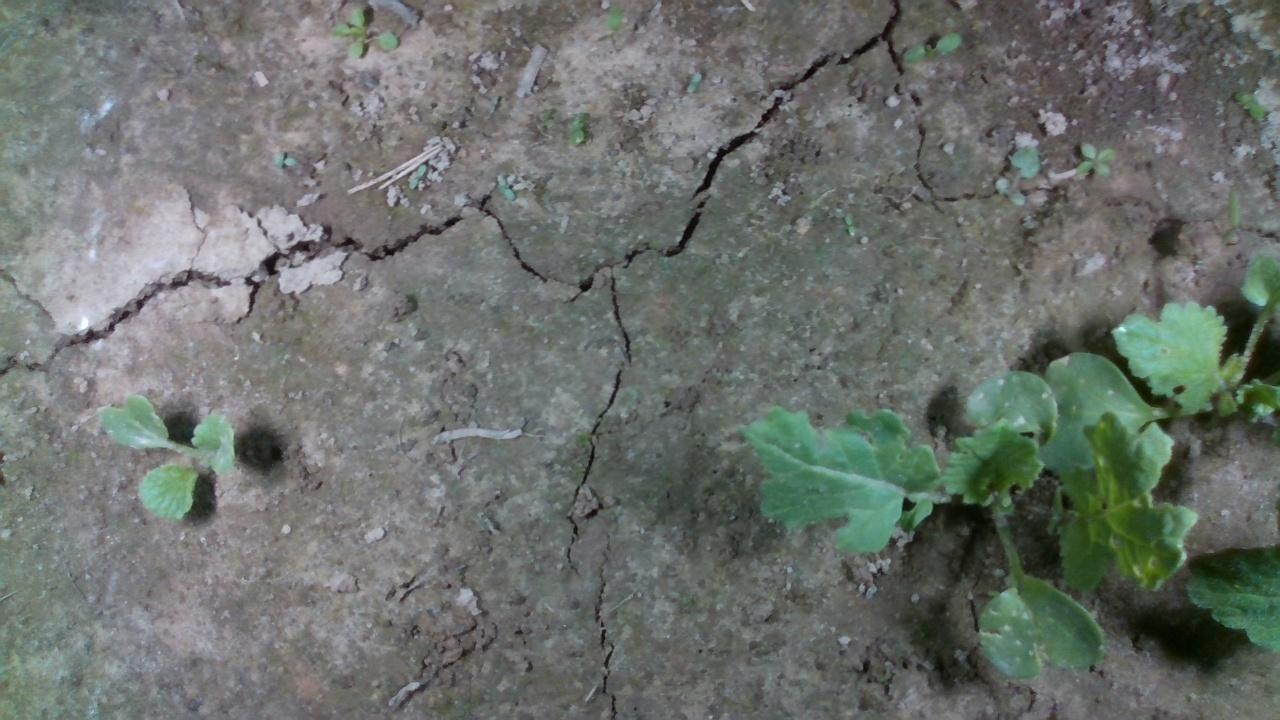weed: (1075, 135, 1120, 176)
